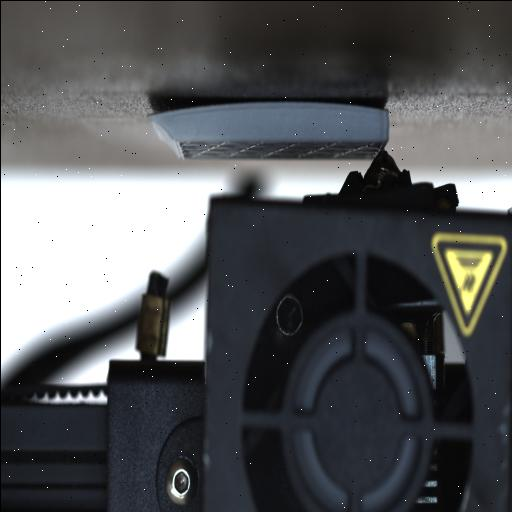warp: (144, 92, 210, 130)
